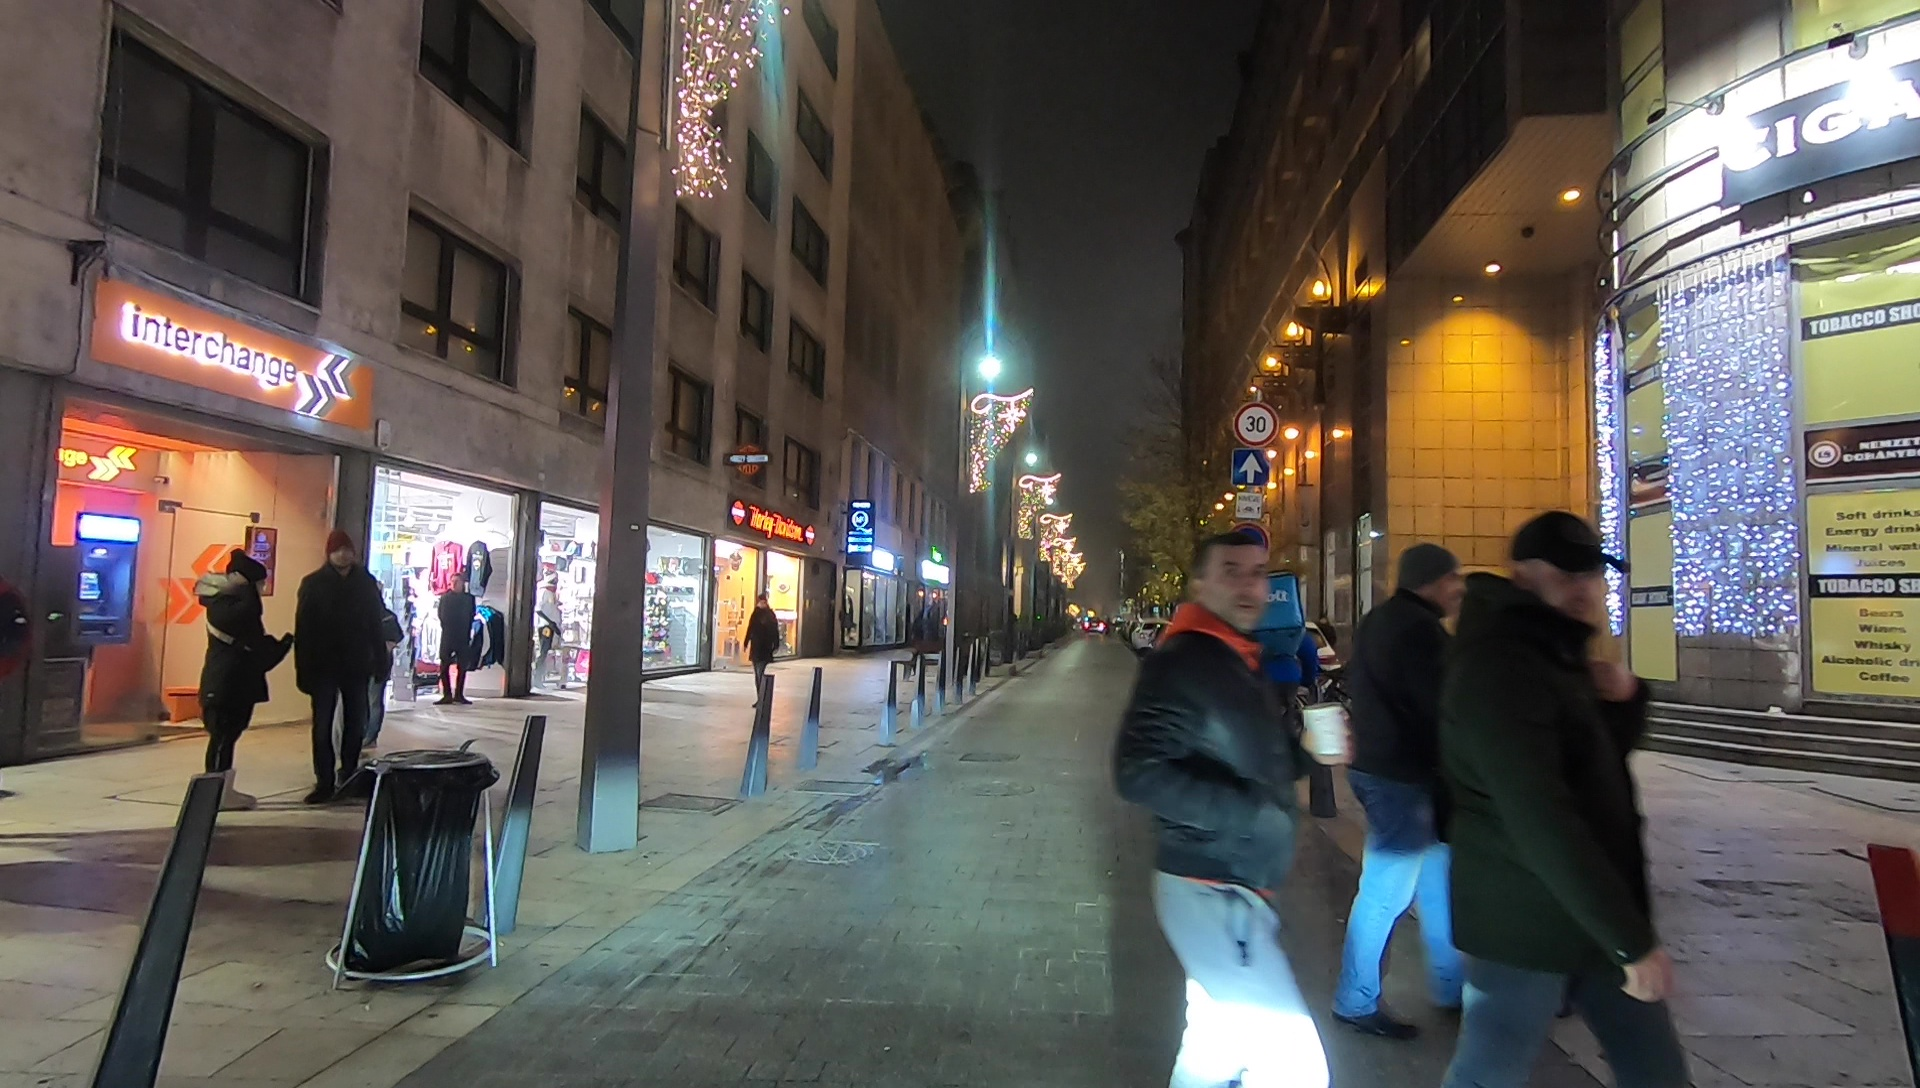person: (1439, 511, 1690, 1088), (1125, 537, 1351, 1084), (1341, 534, 1488, 1041), (295, 534, 375, 804), (201, 552, 280, 806), (438, 574, 473, 702), (745, 593, 780, 695)
